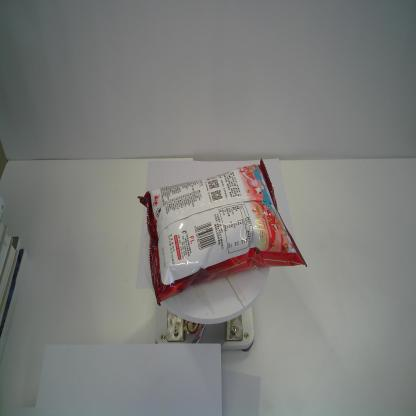Puffed Food: (137, 157, 308, 307)
